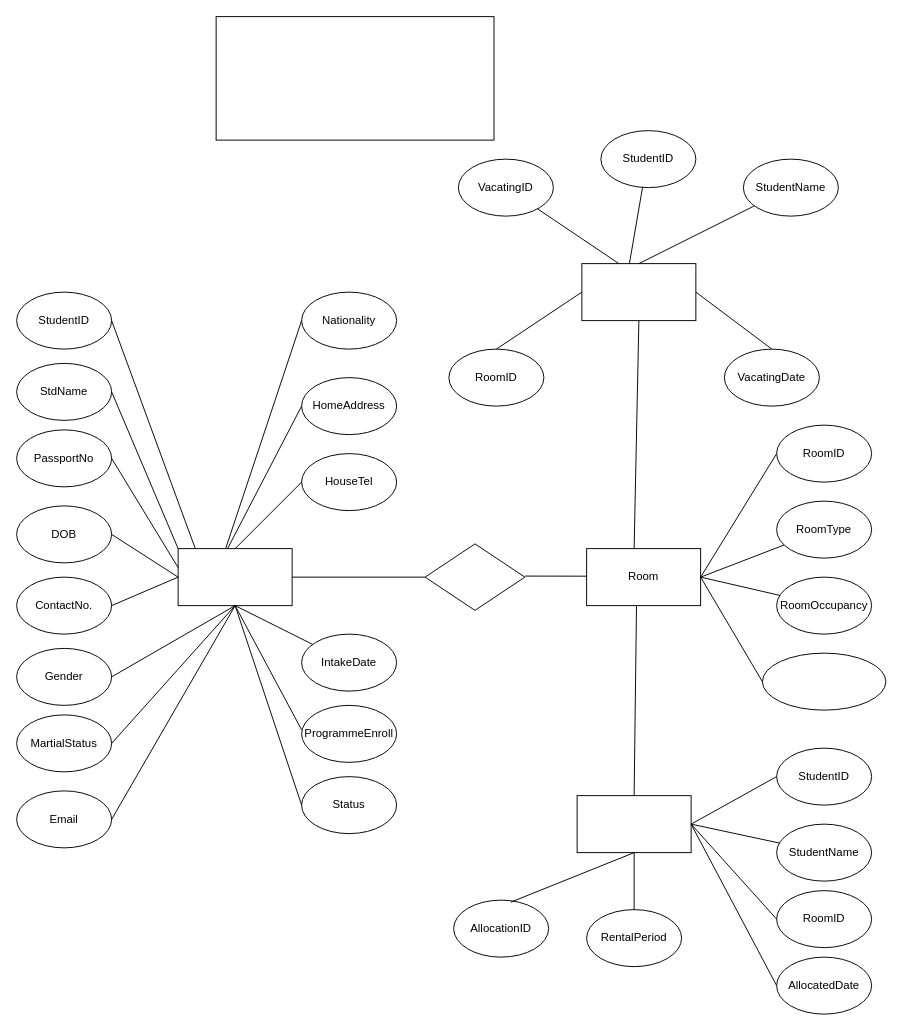
Image size: 903x1031. Some labels were removed from this diagram. Each missing label, with the centre of its shape:
Have: the point at 474,576
HOSTEL MANAGEMENT SYSTEM: the point at 354,78
RoomAllotment: the point at 633,824
RoomBookingStatus: the point at 823,681
RoomVacating: the point at 638,292
Student: the point at 234,577
